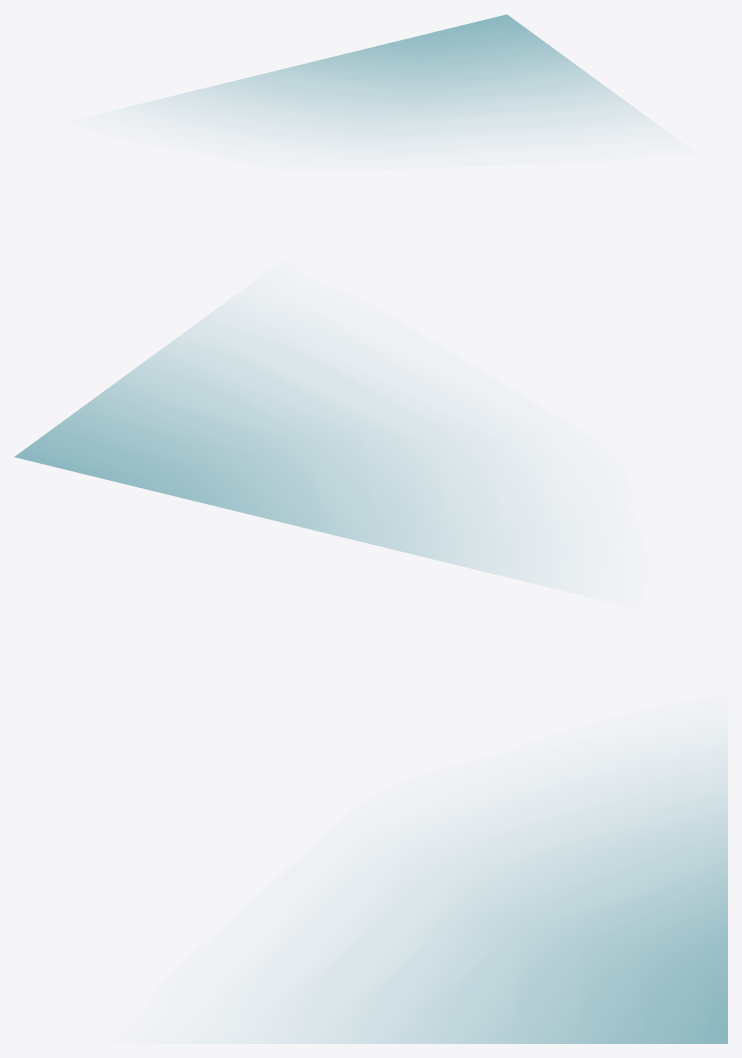
The picture shows the model from 3 angles, top to bottom: view 1: azimuth 30°, elevation 25°; view 2: azimuth 150°, elevation 25°; view 3: azimuth 270°, elevation 25°; orthographic projection. The views are drawn at different scales.
Visible parts, largest first — view 1: city; view 2: city; view 3: city.
Part boxes in pixels (left/top/right/bottom): city: left=139, top=14, right=652, bottom=141; city: left=14, top=306, right=537, bottom=582; city: left=254, top=753, right=727, bottom=1043.
Size of the model in its own units: 420 by 0 by 326.
